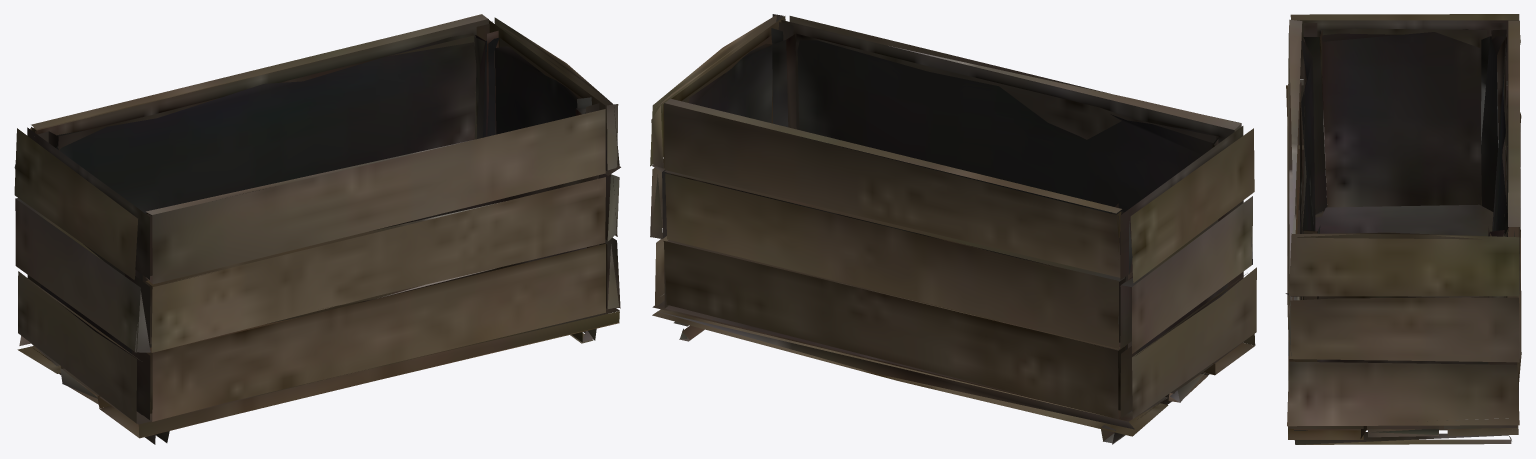
Rendered from detail_planterBox.glb.
3 views of the same model, side by side, from view 1: azimuth 30°, elevation 25°; view 2: azimuth 150°, elevation 25°; view 3: azimuth 270°, elevation 25° (orthographic). The views are drawn at different scales.
Parts seen in each view (by area): view 1: detail_planterBox_LOD0; view 2: detail_planterBox_LOD0; view 3: detail_planterBox_LOD0.
Boxes of the visible parts, box(x1,y1,x2,y2) form: detail_planterBox_LOD0: box(14, 14, 620, 444); detail_planterBox_LOD0: box(650, 14, 1256, 444); detail_planterBox_LOD0: box(1285, 14, 1521, 444).
Size of what is drawn, in the model's own units: 0.9087 by 0.4243 by 0.4087.
1 material, 1 textured.
